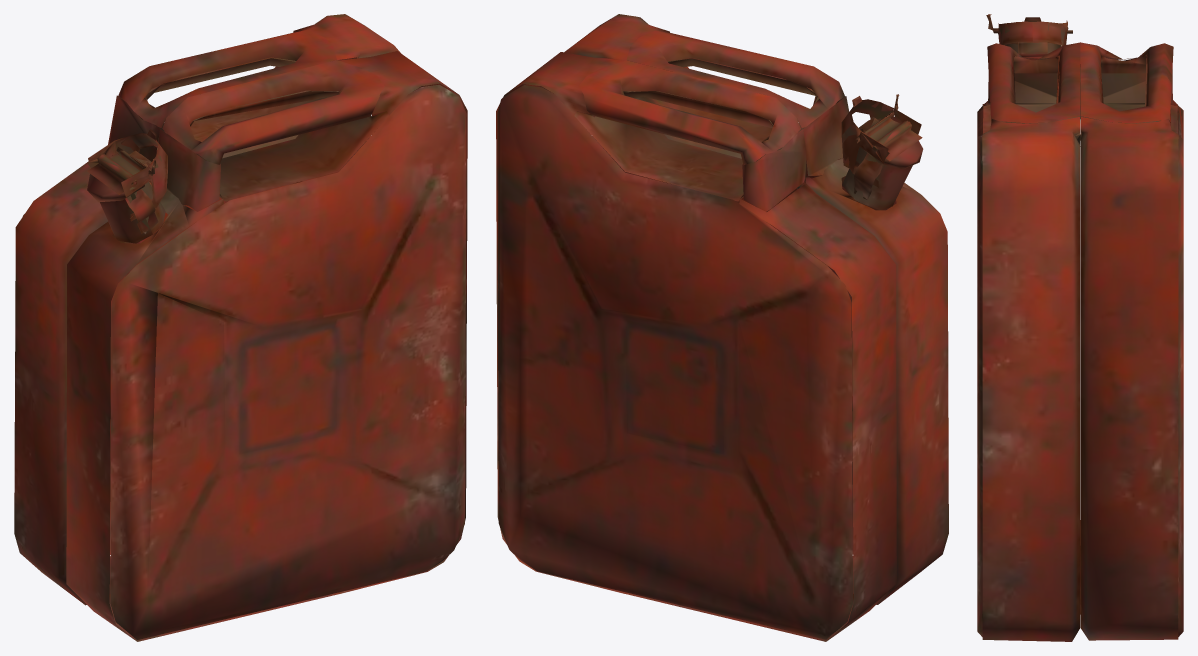
File: metal_jerrycan.glb
3 views of the same model, side by side, from view 1: azimuth 30°, elevation 25°; view 2: azimuth 150°, elevation 25°; view 3: azimuth 270°, elevation 25° (orthographic). The views are drawn at different scales.
Parts seen in each view (by area): view 1: metal_jerrycan; view 2: metal_jerrycan; view 3: metal_jerrycan.
Part boxes in pixels (x1,y1,x2,y2): metal_jerrycan: (14,14,467,641); metal_jerrycan: (496,14,948,641); metal_jerrycan: (977,14,1183,641).
Size of the model in its own units: 0.3483 by 0.4534 by 0.1694.
1 material, 1 textured.
